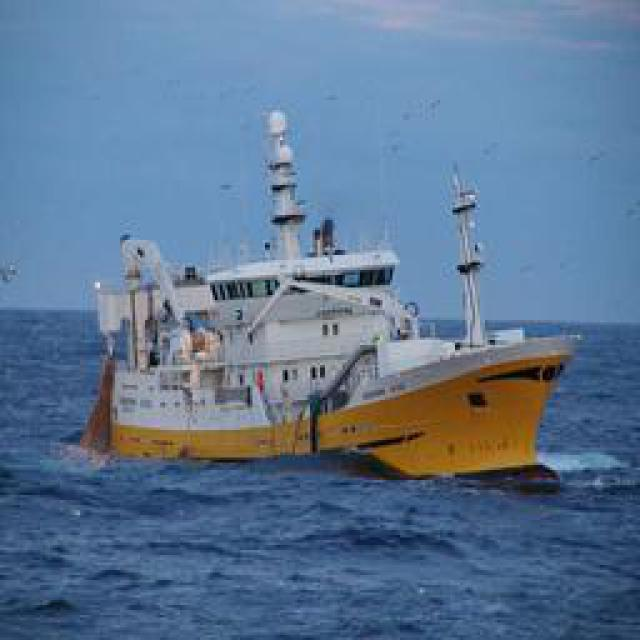Ship: (86, 112, 579, 482)
